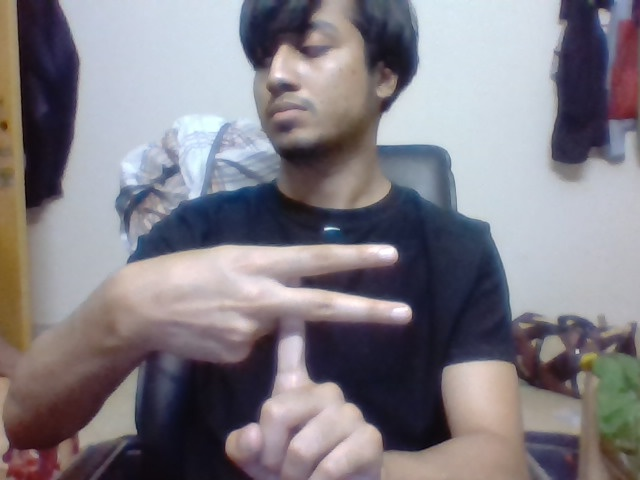F: (269, 240, 427, 374)
